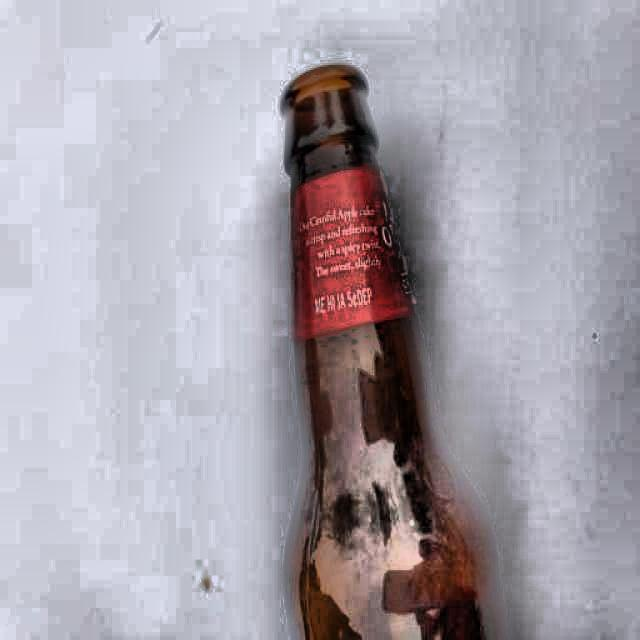glass: (280, 64, 509, 640)
